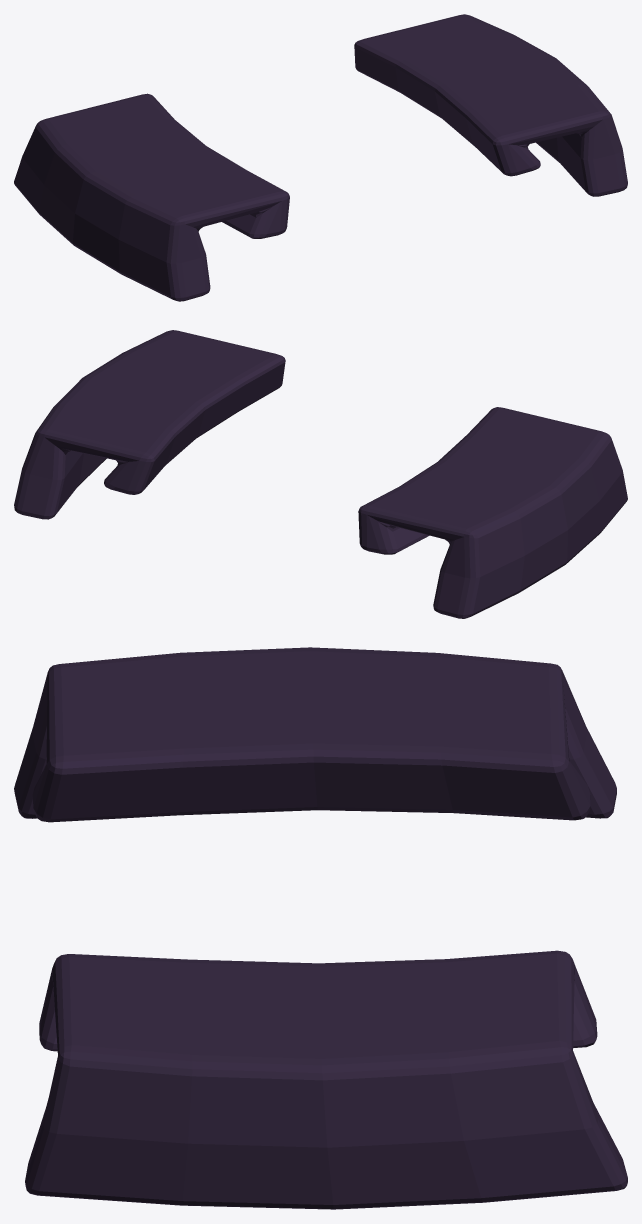
Rendered from Heavenly Fire_Crawler housing2.fbx.
The picture shows the model from 3 angles, top to bottom: view 1: azimuth 30°, elevation 25°; view 2: azimuth 150°, elevation 25°; view 3: azimuth 270°, elevation 25°; orthographic projection. The views are drawn at different scales.
Parts seen in each view (by area): view 1: Heavenly Fire_Crawler housing2_Baked; view 2: Heavenly Fire_Crawler housing2_Baked; view 3: Heavenly Fire_Crawler housing2_Baked.
Part boxes in pixels (bbox=[...]): Heavenly Fire_Crawler housing2_Baked: bbox=[14, 14, 627, 301]; Heavenly Fire_Crawler housing2_Baked: bbox=[14, 330, 627, 618]; Heavenly Fire_Crawler housing2_Baked: bbox=[14, 647, 627, 1209].
Size of the model in its own units: 346 by 50.88 by 202.
Materials: 1 (1 with a texture image).
